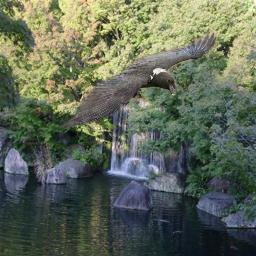Crow: (59, 31, 217, 129)
